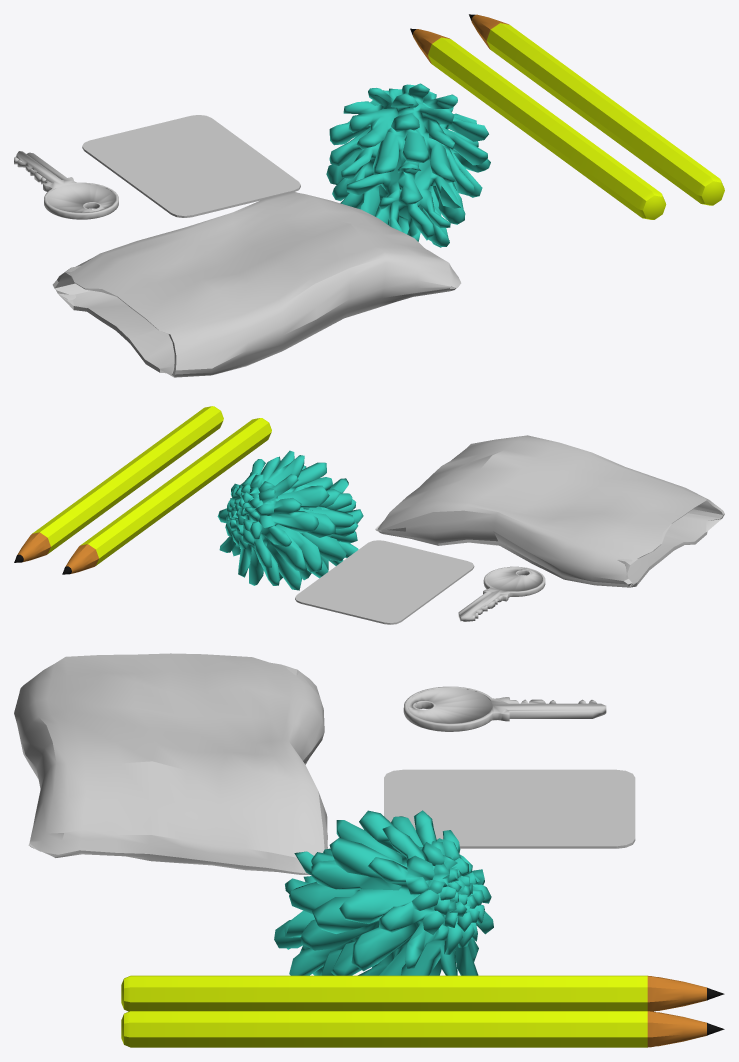
Rendered from Props_lvl3_textured.fbx.
The picture shows the model from 3 angles, top to bottom: view 1: azimuth 30°, elevation 25°; view 2: azimuth 150°, elevation 25°; view 3: azimuth 270°, elevation 25°; orthographic projection. The views are drawn at different scales.
Visible parts, largest first — view 1: CrispsBag, Pine_Cone_02, Card, Pencil, Pen, Key; view 2: CrispsBag, Pine_Cone_02, Card, Pencil (×2), Pen (×2), Key; view 3: CrispsBag, Pine_Cone_02, Pen (×2), Pencil (×2), Card, Key.
Boxes of the visible parts, bbox=[...] form: CrispsBag: bbox=[52, 191, 461, 377]; Pine_Cone_02: bbox=[326, 83, 490, 247]; Card: bbox=[82, 115, 300, 217]; Pencil: bbox=[428, 37, 666, 219]; Pen: bbox=[486, 23, 724, 205]; Key: bbox=[14, 151, 118, 219]; CrispsBag: bbox=[375, 435, 724, 587]; Pine_Cone_02: bbox=[217, 450, 363, 590]; Card: bbox=[295, 540, 474, 624]; Pencil (×2): bbox=[65, 418, 271, 573]; Pen (×2): bbox=[17, 406, 223, 561]; Key: bbox=[458, 566, 545, 621]; CrispsBag: bbox=[14, 653, 327, 874]; Pine_Cone_02: bbox=[274, 810, 493, 975]; Pen (×2): bbox=[121, 1011, 706, 1047]; Pencil (×2): bbox=[121, 975, 706, 1011]; Card: bbox=[384, 769, 635, 848]; Key: bbox=[403, 686, 606, 731].
Size of the model in its own units: 44.15 by 10.54 by 36.83.
